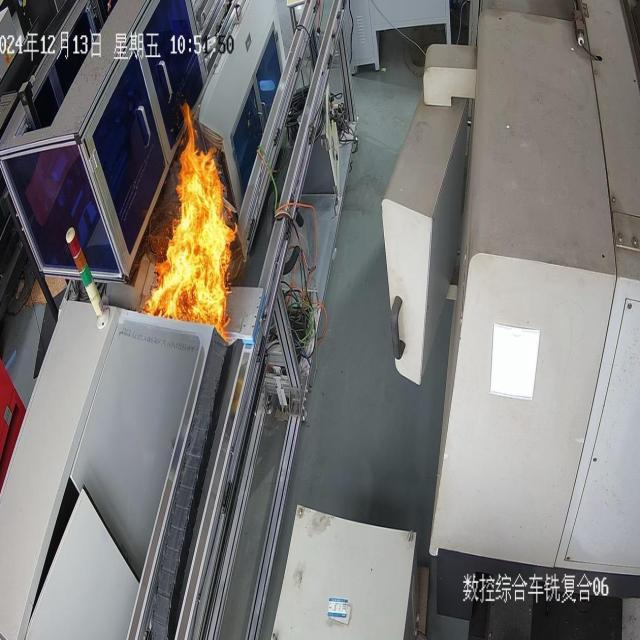smoke: (148, 120, 235, 338)
